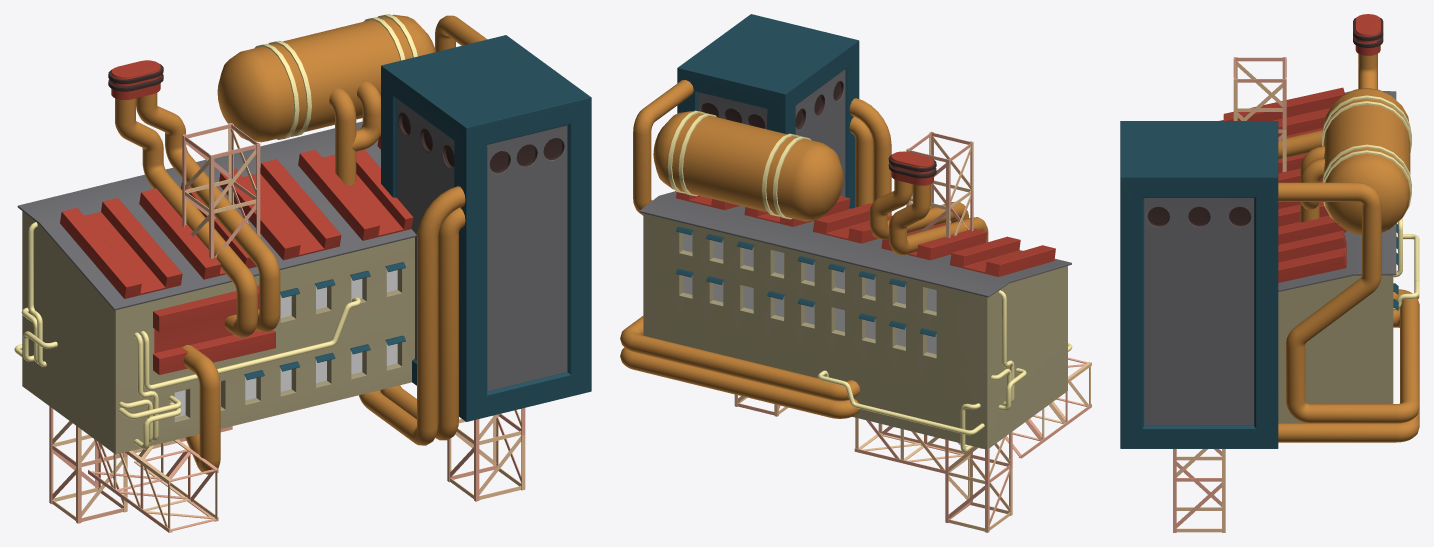
File: BStruct_ Factory_A.fbx
3 views of the same model, side by side, from view 1: azimuth 30°, elevation 25°; view 2: azimuth 150°, elevation 25°; view 3: azimuth 270°, elevation 25° (orthographic). The views are drawn at different scales.
Parts seen in each view (by area): view 1: BAT_1, BAT_2, PIPES, Cube.001, Cylinder, SCAFOLDINGS, GLASS, Cube.005; view 2: BAT_2, PIPES, BAT_1, Cylinder, SCAFOLDINGS, Cube.001, GLASS, Cube.005; view 3: BAT_1, PIPES, BAT_2, Cylinder, Cube.001, SCAFOLDINGS, Cube.005.
Part boxes in pixels (x1,y1,x2,y2): BAT_1: (381, 35, 591, 421); BAT_2: (17, 121, 416, 454); PIPES: (14, 15, 487, 474); Cube.001: (60, 135, 413, 374); Cylinder: (217, 14, 435, 142); SCAFOLDINGS: (49, 123, 525, 532); GLASS: (174, 269, 397, 417); Cube.005: (108, 60, 163, 99); BAT_2: (639, 191, 1071, 449); PIPES: (620, 80, 1072, 452); BAT_1: (677, 14, 859, 208); Cylinder: (653, 110, 843, 221); SCAFOLDINGS: (734, 131, 1091, 532); Cube.001: (676, 192, 1055, 276); GLASS: (683, 232, 936, 354); Cube.005: (888, 151, 936, 185); BAT_1: (1120, 121, 1278, 448); PIPES: (1278, 54, 1419, 442); BAT_2: (1219, 91, 1398, 422); Cylinder: (1322, 88, 1411, 235); Cube.001: (1223, 87, 1346, 282); SCAFOLDINGS: (1173, 57, 1286, 532); Cube.005: (1353, 14, 1383, 55).
Bounding box in the file's own units: 1237 × 1122 × 798.
